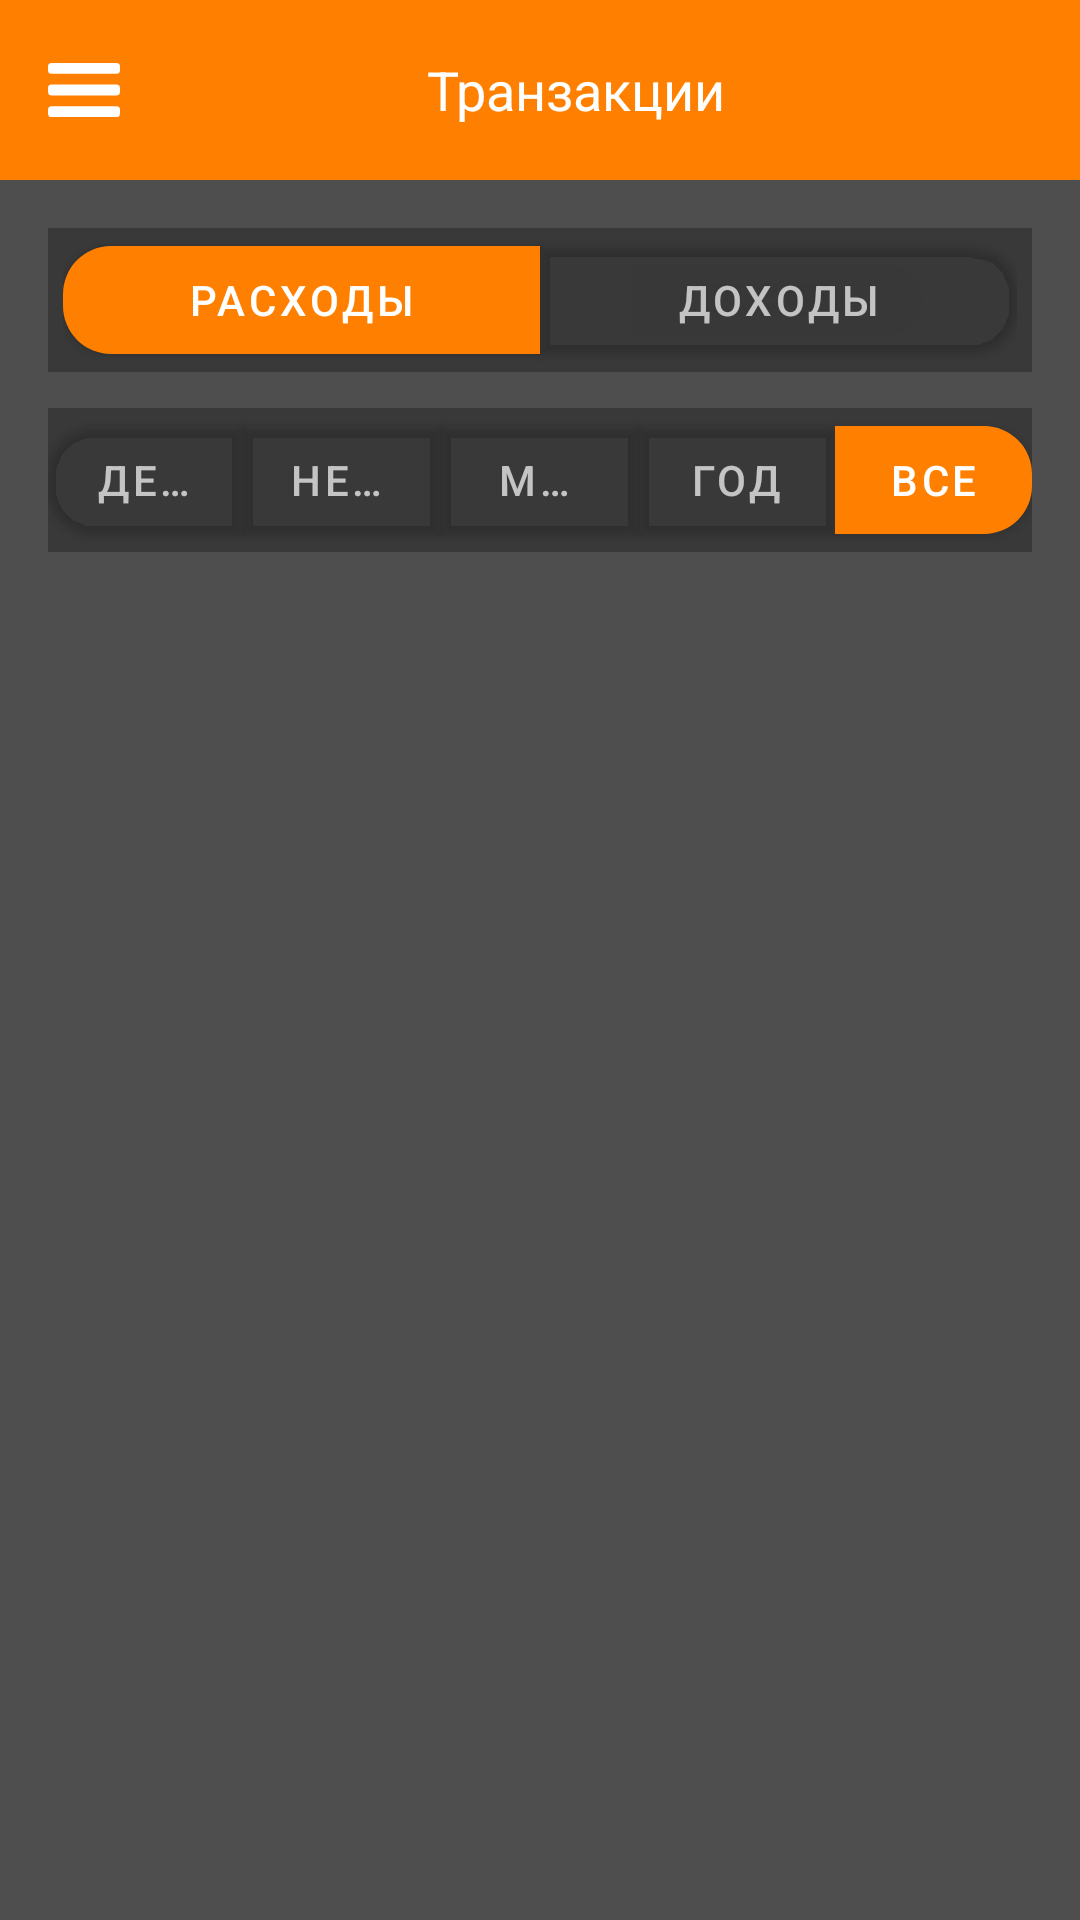

Where to tap for icons on this 1080w x 1920h app screen, as point (x, y):
menu: point (84, 90)
